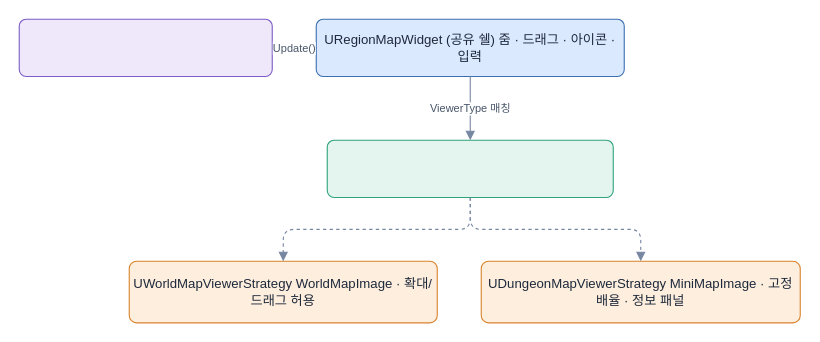
This 820x342 diagram has some shape labels left out. Here are the shapes that lost their labels. From the top down, the centre of each, then its label:
At pixel 145 47: "UWorldMapScreen Region · EMapViewerType 지정".
At pixel 469 168: "UMapViewerStrategy 타입별로 달라지는 부분만".
